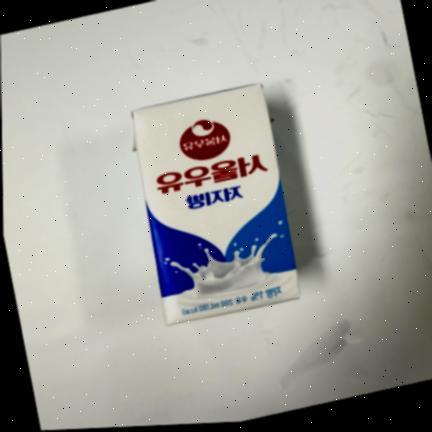milk_blue: (133, 84, 300, 325)
